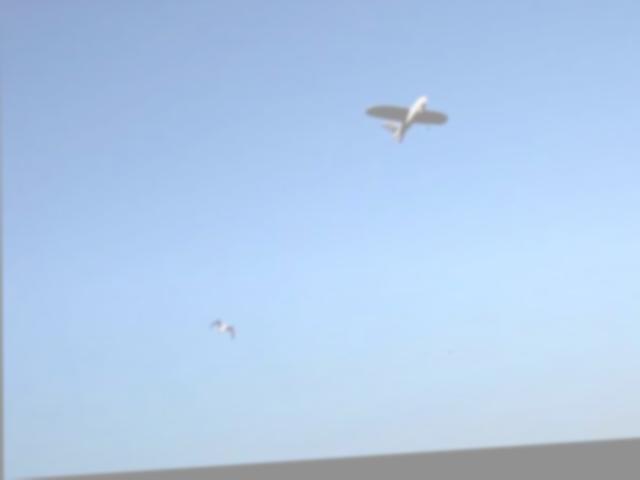iha: (366, 92, 459, 153)
